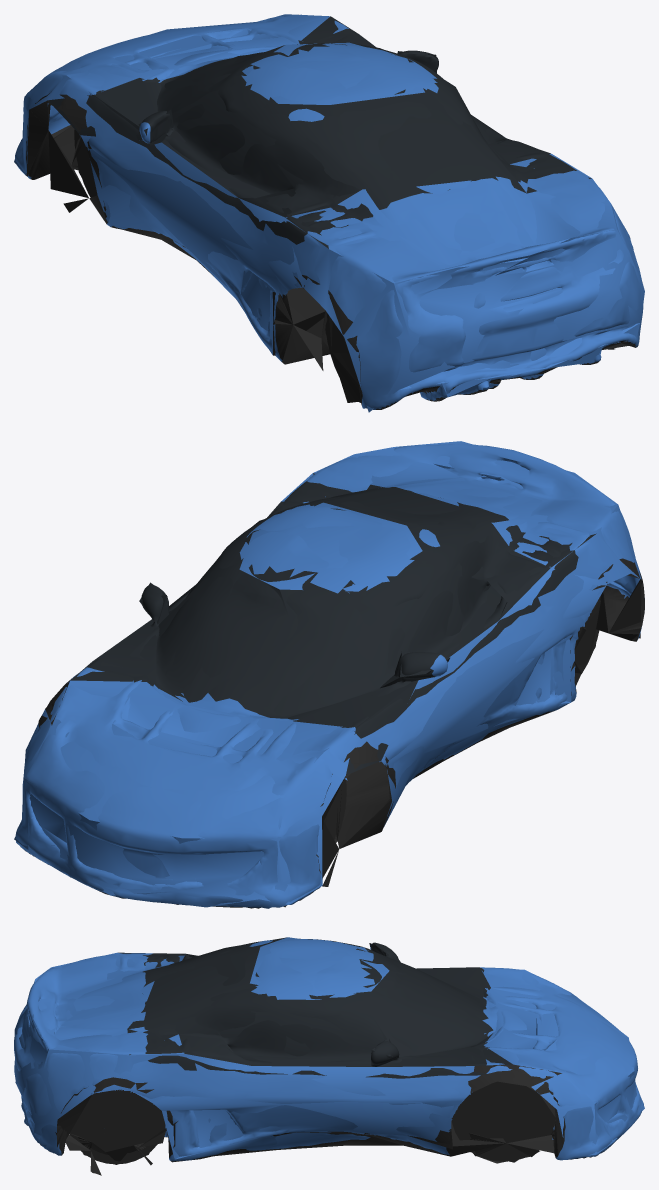
The model's file is lotus-evora.glb.
The picture shows the model from 3 angles, top to bottom: view 1: azimuth 30°, elevation 25°; view 2: azimuth 150°, elevation 25°; view 3: azimuth 270°, elevation 25°; orthographic projection. The views are drawn at different scales.
Parts seen in each view (by area): view 1: body, far; view 2: body, far; view 3: body, far.
Part boxes in pixels (box(x1,y1,x2,y2)): body: box(15, 14, 643, 409); far: box(14, 14, 644, 412); body: box(15, 444, 644, 908); far: box(14, 441, 641, 907); body: box(14, 938, 643, 1173); far: box(14, 937, 644, 1175).
Bounding box in the file's own units: 1.9 × 1.28 × 4.42.
